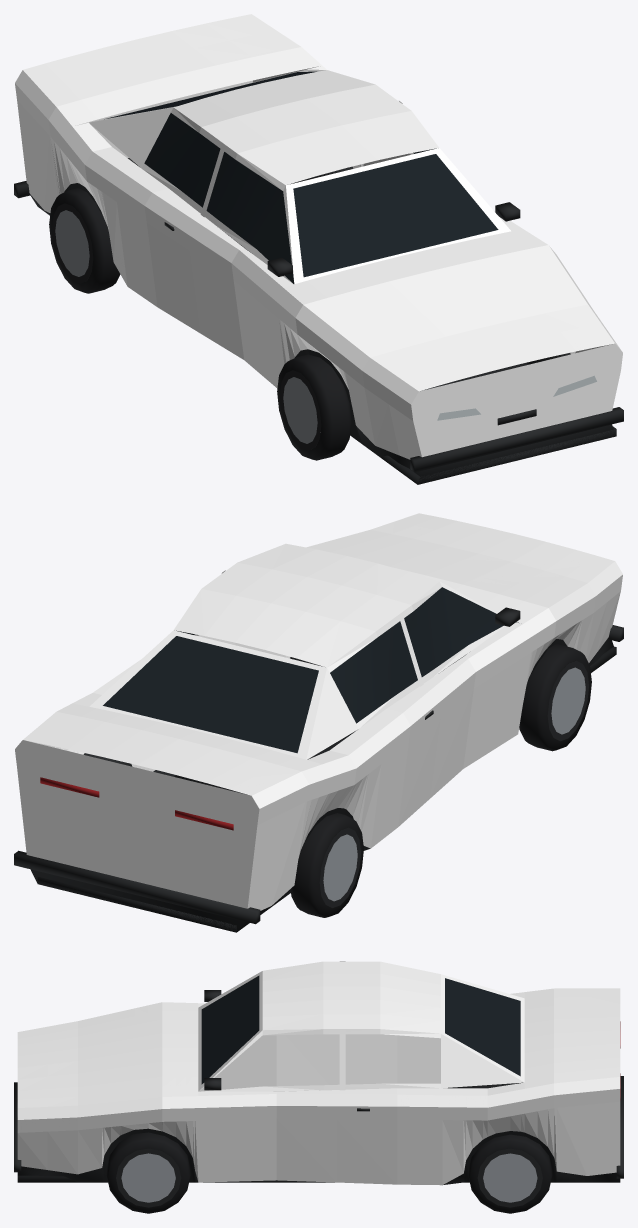
File: bancroft_seresta.glb
The picture shows the model from 3 angles, top to bottom: view 1: azimuth 30°, elevation 25°; view 2: azimuth 150°, elevation 25°; view 3: azimuth 270°, elevation 25°; orthographic projection. The views are drawn at different scales.
Visible parts, largest first — view 1: Body_Paint, Body_Details, Mount_FrontLeft_Wheel_Details, Mount_RearLeft_Wheel_Details; view 2: Body_Paint, Body_Details, Mount_FrontLeft_Wheel_Details, Mount_RearLeft_Wheel_Details; view 3: Body_Paint, Body_Details, Mount_FrontRight_Wheel_Details, Mount_RearRight_Wheel_Details.
Boxes of the visible parts, x1,y1,x2,y2 form: Body_Paint: [15, 14, 622, 459]; Body_Details: [14, 71, 623, 484]; Mount_FrontLeft_Wheel_Details: [277, 354, 351, 460]; Mount_RearLeft_Wheel_Details: [49, 188, 120, 293]; Body_Paint: [15, 513, 622, 910]; Body_Details: [14, 587, 623, 932]; Mount_FrontLeft_Wheel_Details: [519, 644, 591, 751]; Mount_RearLeft_Wheel_Details: [290, 813, 363, 917]; Body_Paint: [17, 961, 620, 1185]; Body_Details: [14, 975, 623, 1184]; Mount_FrontRight_Wheel_Details: [106, 1132, 190, 1213]; Mount_RearRight_Wheel_Details: [468, 1134, 552, 1213].
Bounding box in the file's own units: 1.9 × 1.44 × 4.66.
Materials: 2 (1 with a texture image).
